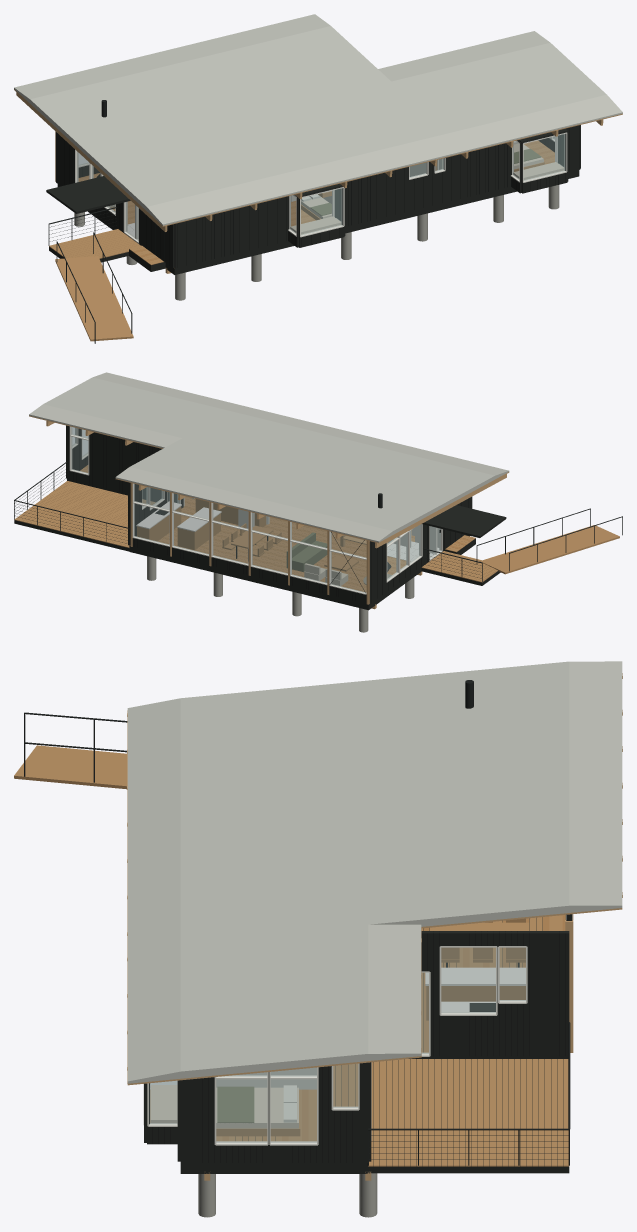
The model's file is linhaven-cabin.glb.
3 renders of one model, top to bottom at view 1: azimuth 30°, elevation 25°; view 2: azimuth 150°, elevation 25°; view 3: azimuth 270°, elevation 25°, orthographic. The views are drawn at different scales.
Visible parts, largest first — view 1: roof / Pale TPO roof, exterior / Vertical black charred timber, deck / Natural oak, glass / Glazing, structure / Vertical black charred timber, exterior / Charred board grain, roof / Vertical black charred timber, exterior / Warm white plaster, structure / Concrete piers, roof / Exposed Douglas fir, furniture / Natural linen, deck / Matte black steel (+2 smaller); view 2: roof / Pale TPO roof, glass / Glazing, deck / Natural oak, exterior / Vertical black charred timber, exterior / Warm white plaster, interior / Natural oak, furniture / Natural oak, interior / Oak alternate boards, structure / Vertical black charred timber, deck / Matte black steel, roof / Vertical black charred timber, roof / Exposed Douglas fir (+9 smaller); view 3: roof / Pale TPO roof, deck / Natural oak, exterior / Vertical black charred timber, glass / Glazing, deck / Vertical black charred timber, furniture / Natural oak, exterior / Warm white plaster, interior / Natural oak, structure / Vertical black charred timber, deck / Matte black steel, furniture / Natural linen, exterior / Charred board grain (+6 smaller).
Boxes of the visible parts, x1=… form: roof / Pale TPO roof: x1=14, y1=14, x2=622, y2=225; exterior / Vertical black charred timber: x1=56, y1=125, x2=580, y2=268; deck / Natural oak: x1=49, y1=229, x2=140, y2=341; glass / Glazing: x1=77, y1=134, x2=564, y2=240; structure / Vertical black charred timber: x1=57, y1=170, x2=579, y2=274; exterior / Charred board grain: x1=64, y1=125, x2=579, y2=267; roof / Vertical black charred timber: x1=46, y1=129, x2=567, y2=213; exterior / Warm white plaster: x1=75, y1=132, x2=567, y2=243; structure / Concrete piers: x1=74, y1=185, x2=559, y2=300; roof / Exposed Douglas fir: x1=14, y1=89, x2=622, y2=231; furniture / Natural linen: x1=290, y1=143, x2=564, y2=234; deck / Matte black steel: x1=48, y1=207, x2=132, y2=343; roof / Pale TPO roof: x1=29, y1=372, x2=509, y2=542; glass / Glazing: x1=71, y1=427, x2=440, y2=592; deck / Natural oak: x1=14, y1=481, x2=619, y2=582; exterior / Vertical black charred timber: x1=66, y1=425, x2=472, y2=603; exterior / Warm white plaster: x1=69, y1=426, x2=442, y2=594; interior / Natural oak: x1=81, y1=465, x2=475, y2=590; furniture / Natural oak: x1=137, y1=499, x2=358, y2=571; interior / Oak alternate boards: x1=80, y1=466, x2=472, y2=592; structure / Vertical black charred timber: x1=67, y1=479, x2=475, y2=610; deck / Matte black steel: x1=14, y1=462, x2=622, y2=581; roof / Vertical black charred timber: x1=422, y1=505, x2=506, y2=537; roof / Exposed Douglas fir: x1=29, y1=415, x2=509, y2=548; roof / Pale TPO roof: x1=127, y1=661, x2=622, y2=1083; deck / Natural oak: x1=14, y1=745, x2=569, y2=1166; exterior / Vertical black charred timber: x1=144, y1=914, x2=572, y2=1162; glass / Glazing: x1=149, y1=948, x2=525, y2=1142; deck / Vertical black charred timber: x1=368, y1=1060, x2=569, y2=1173; furniture / Natural oak: x1=216, y1=918, x2=529, y2=1136; exterior / Warm white plaster: x1=143, y1=914, x2=572, y2=1145; interior / Natural oak: x1=150, y1=915, x2=562, y2=1141; structure / Vertical black charred timber: x1=180, y1=917, x2=568, y2=1173; deck / Matte black steel: x1=24, y1=712, x2=570, y2=1165; furniture / Natural linen: x1=150, y1=1085, x2=298, y2=1128; exterior / Charred board grain: x1=152, y1=931, x2=565, y2=1162.
Bounding box in the file's own units: 24.65 × 5.85 × 13.97.
